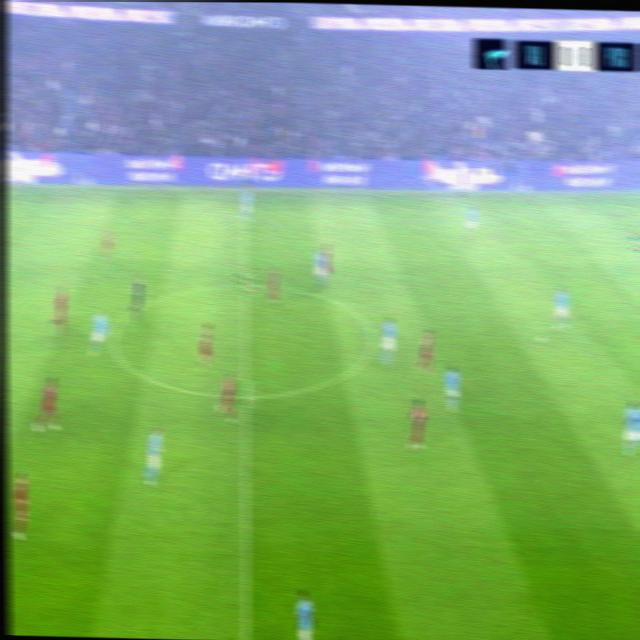bigarea_top_inner: (624, 224, 640, 252)
halfcircle_bottom: (233, 380, 258, 407)
halfcircle_top: (233, 272, 256, 295)
